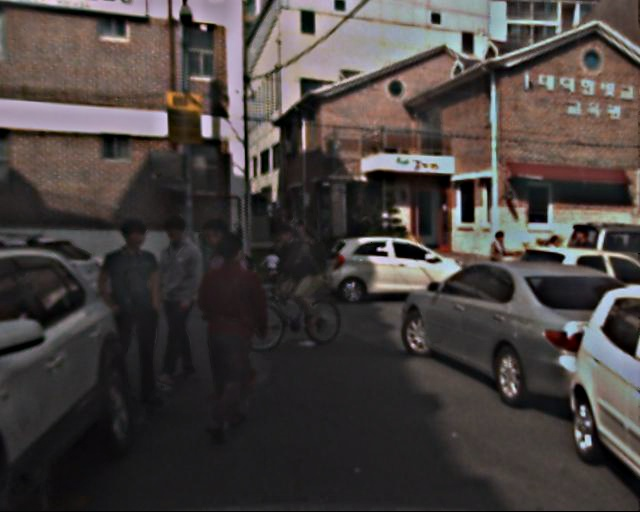person: (190, 239, 274, 444), (97, 221, 177, 408), (146, 213, 220, 378), (188, 221, 254, 373), (272, 225, 316, 333), (487, 228, 518, 303)
